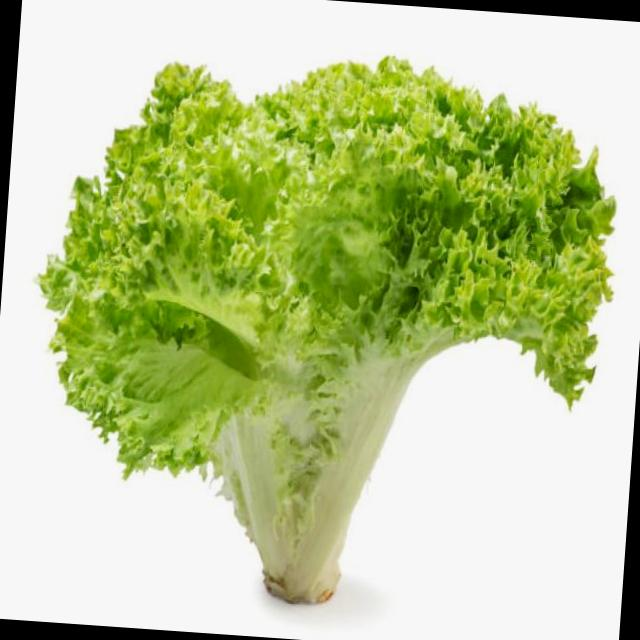Lettuce-Ready-to-Harvest: (41, 58, 614, 602)
